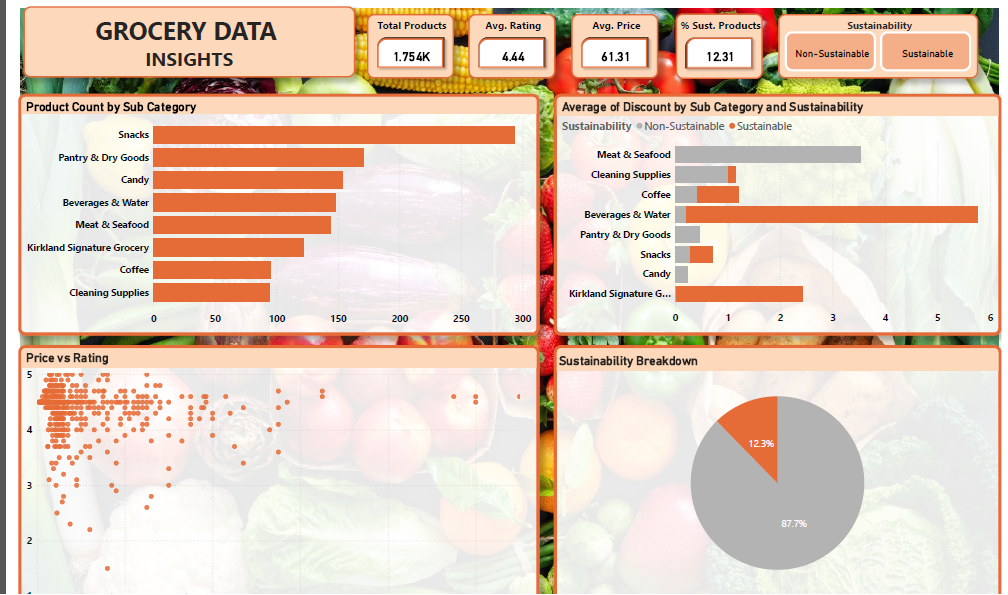

This screenshot's page, from the dashboard's own definition file:
{"tool":"powerbi","page":{"name":"Page 1","canvas":[1920,1200],"ordinal":0},"visuals":[{"type":"image","box":[0,0,1920,1200],"z":0},{"type":"textbox","box":[9.6,0,648,139.2],"z":2000},{"type":"cardVisual","title":"Total Products","fields":{"Data":["CountNonNull(cleaned_grocery_data.Title)"]},"box":[680.6,15.1,170,126],"z":3000},{"type":"cardVisual","title":"Avg. Rating","fields":{"Data":["Avg(cleaned_grocery_data.Rating)"]},"box":[878.9,15.1,170,126],"z":4000},{"type":"cardVisual","title":"Avg. Price","fields":{"Data":["Avg(cleaned_grocery_data.Price)"]},"box":[1080.4,15.1,170,126],"z":5000},{"type":"cardVisual","title":"% Sust. Products","fields":{"Data":["cleaned_grocery_data.PercentSustainable"]},"box":[1284,14.4,170.4,127.2],"z":6000},{"type":"clusteredBarChart","title":"Product Count by Sub Category","fields":{"Category":["cleaned_grocery_data.Sub Category"],"Y":["CountNonNull(cleaned_grocery_data.Title)"]},"box":[0,171.3,1018,471.2],"z":7000},{"type":"pieChart","title":"Sustainability Breakdown","fields":{"Category":["cleaned_grocery_data.Sustainability"],"Y":["CountNonNull(cleaned_grocery_data.Title)"]},"box":[1046.4,662.4,873.6,537.6],"z":8000},{"type":"scatterChart","title":"Price vs Rating","fields":{"X":["cleaned_grocery_data.Price"],"Y":["cleaned_grocery_data.Rating"]},"box":[0,662.4,1017.6,537.6],"z":9000},{"type":"barChart","fields":{"Category":["cleaned_grocery_data.Sub Category"],"Y":["Avg(cleaned_grocery_data.Discount)"],"Series":["cleaned_grocery_data.Sustainability"]},"box":[1045.7,171.3,874.3,471.2],"z":10000},{"type":"advancedSlicerVisual","fields":{"Values":["cleaned_grocery_data.Sustainability"]},"box":[1484.1,15.1,390.6,126],"z":11000}]}

Visuals, with their boxes in screenshot pixels (x1, y1, x2, y2):
image: detection(18, 0, 993, 594)
textbox: detection(23, 0, 352, 71)
"Total Products" cardVisual: detection(364, 8, 450, 72)
"Avg. Rating" cardVisual: detection(465, 8, 551, 72)
"Avg. Price" cardVisual: detection(567, 8, 653, 72)
"% Sust. Products" cardVisual: detection(670, 7, 757, 72)
"Product Count by Sub Category" clusteredBarChart: detection(18, 87, 535, 326)
"Sustainability Breakdown" pieChart: detection(550, 336, 993, 594)
"Price vs Rating" scatterChart: detection(18, 336, 535, 594)
barChart - cleaned_grocery_data.Sub Category x Avg(cleaned_grocery_data.Discount): detection(549, 87, 993, 326)
advancedSlicerVisual - cleaned_grocery_data.Sustainability: detection(772, 8, 970, 72)
